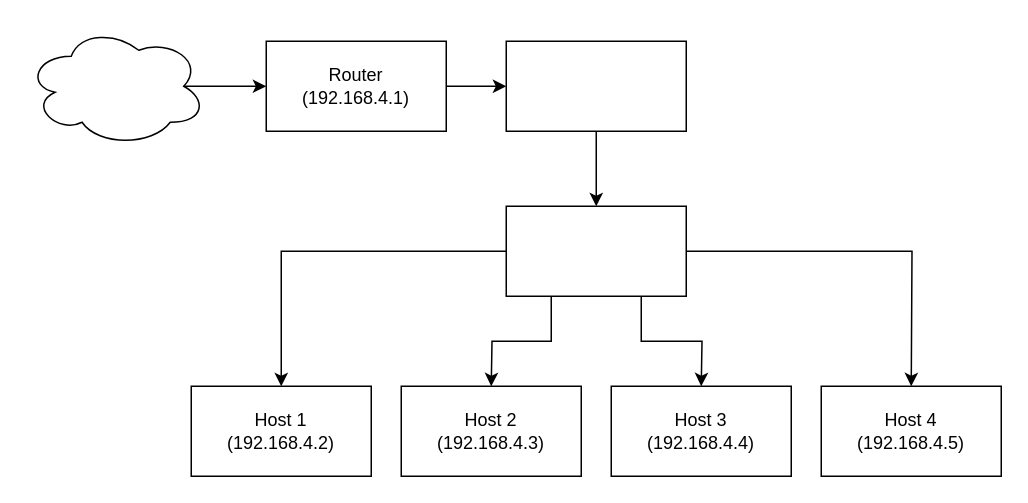
Image size: 1028x503. Some labels were removed from this diagram. Here are the shapes that lost their labels. From the top down, the box of each, then its label:
(25, 25, 206, 146): Internet
(505, 40, 686, 131): CIDR (192.168.4.0/24)
(505, 205, 686, 296): Subnet (192.168.4.x)
